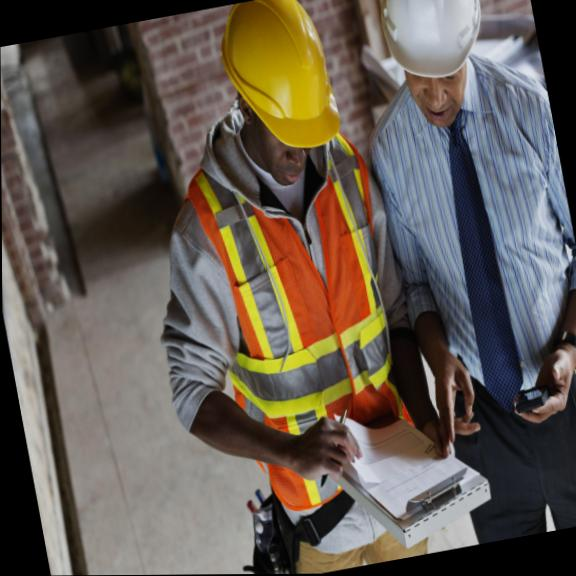no_safety_vest: (355, 51, 576, 448)
safety_vest: (143, 125, 441, 538)
